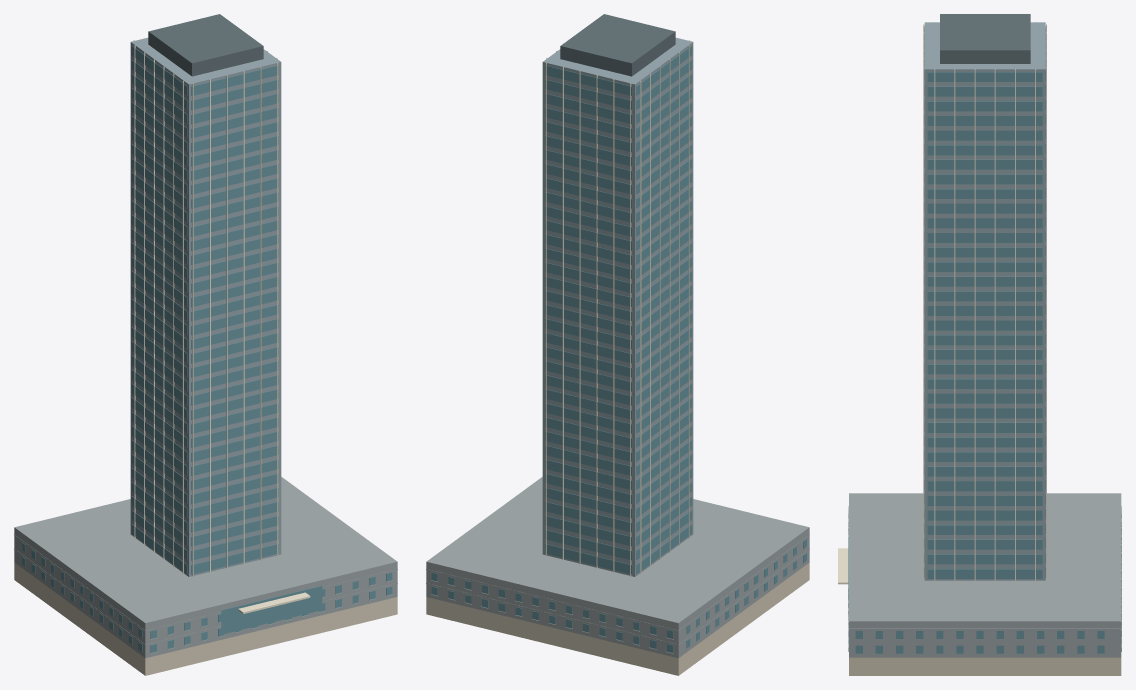
The model's file is civic-tower-3.glb.
The picture shows the model from 3 angles, left to right: view 1: azimuth 30°, elevation 25°; view 2: azimuth 150°, elevation 25°; view 3: azimuth 270°, elevation 25°; orthographic projection. The views are drawn at different scales.
Size of the model in its own units: 60.16 by 127 by 56.34.
